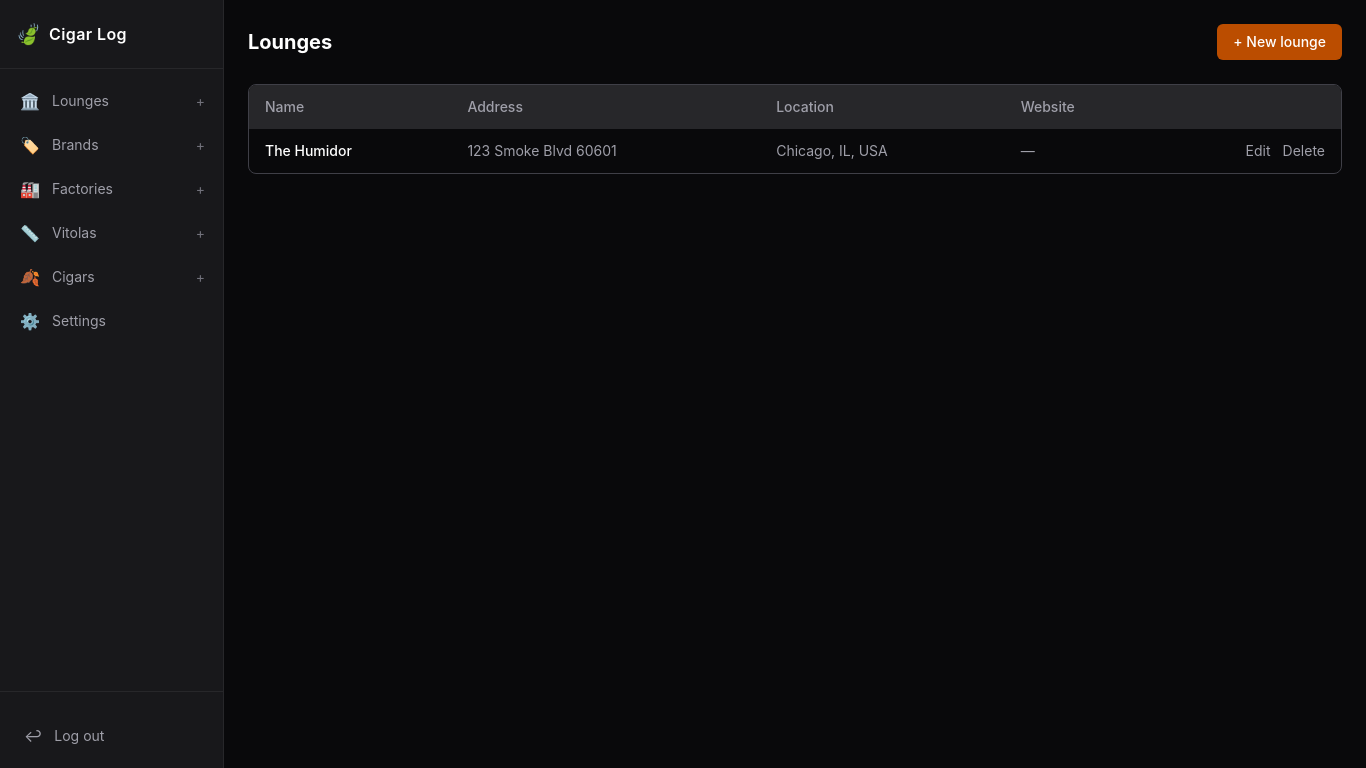
it: LoungesPage › opens delete confirmation modal
The width and height of the screenshot is (1366, 768).
Click the button "Delete".
click(1304, 151)  # box [1283,141,1325,161]
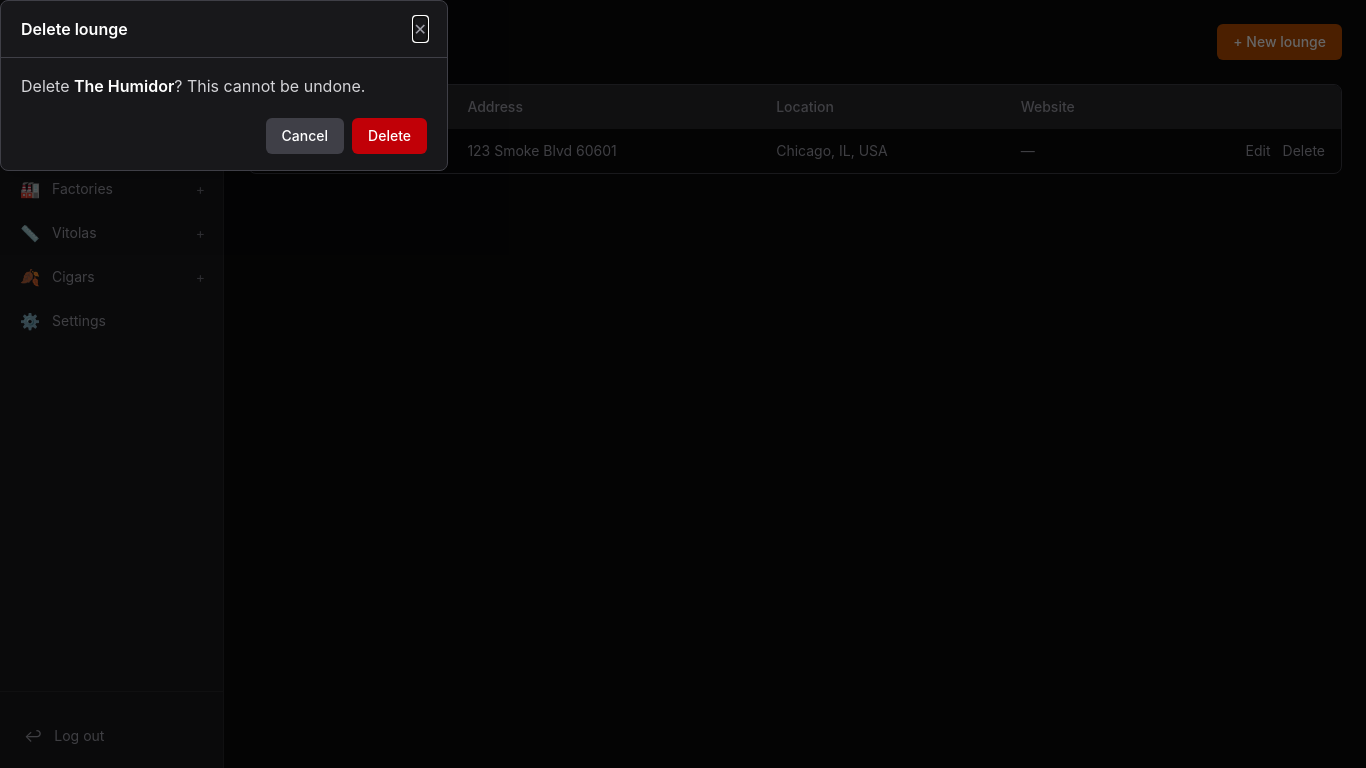
Expected: the text "The Humidor" is shown, [249,129,451,173]
Expected: the heading "Delete lounge" is shown, [21,17,128,41]
